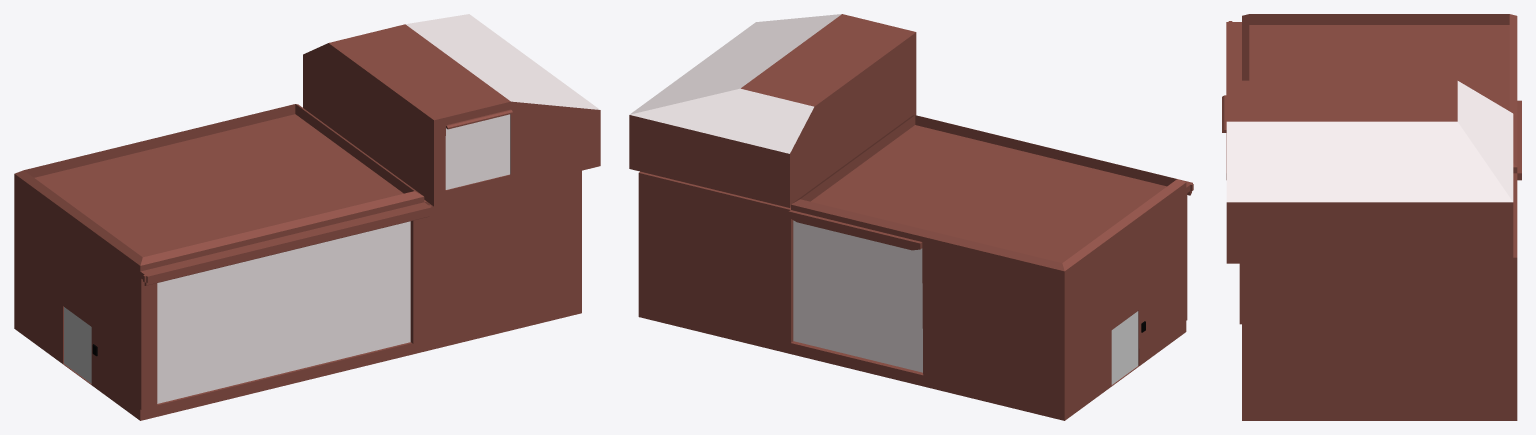
The model's file is Facility.fbx.
3 renders of one model, left to right at view 1: azimuth 30°, elevation 25°; view 2: azimuth 150°, elevation 25°; view 3: azimuth 270°, elevation 25°, orthographic. The views are drawn at different scales.
Parts seen in each view (by area): view 1: Cube; view 2: Cube; view 3: Cube.
Part boxes in pixels (x1,y1,x2,y2): Cube: (14,14,600,420); Cube: (629,14,1193,420); Cube: (1222,14,1521,420).
Size of the model in its own units: 3955 by 1960 by 2066.
